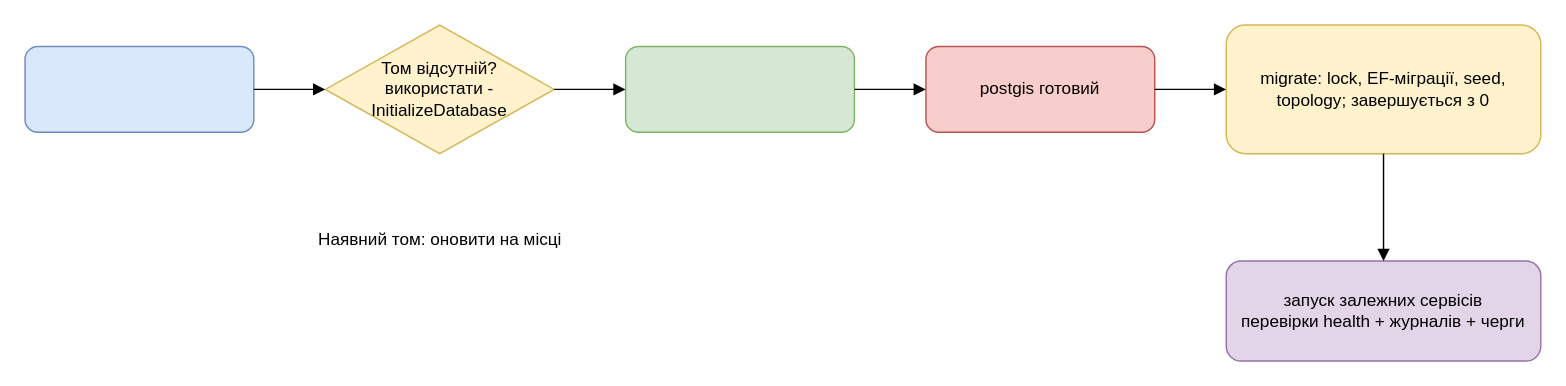
The diagram is 1566 pixels wide and 386 high, and some of its shapes have lost their labels. Each missing label, with the centre of its shape:
"deploy.ps1 compose up --build" goes at point (739, 88).
"Вибрати том бази даних" goes at point (139, 88).
